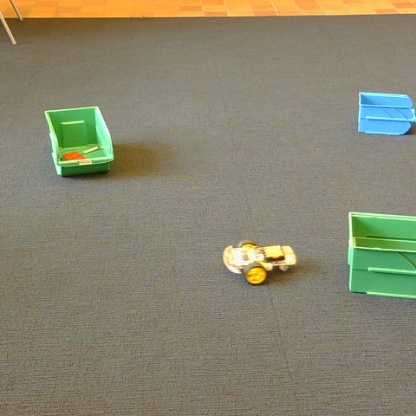robot: (223, 240, 296, 284)
